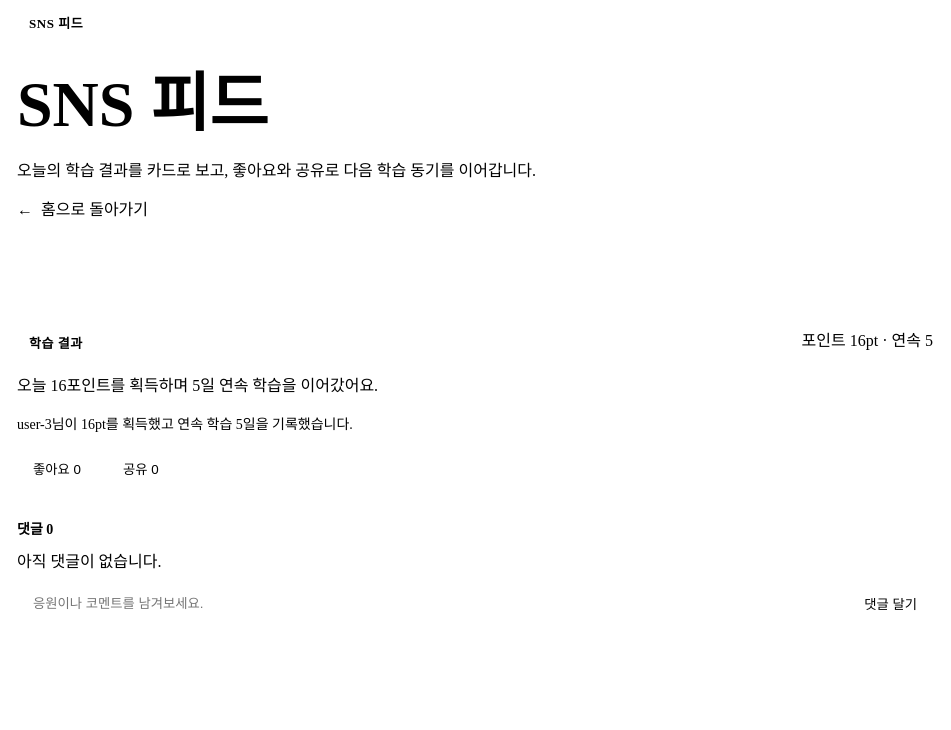
Scenario: feed ui › adds a comment to a feed card
Type "정말 대단해요." into the field named "댓글 입력 post-comment" at (428, 604), box top-left (17, 582), bottom-right (838, 625)
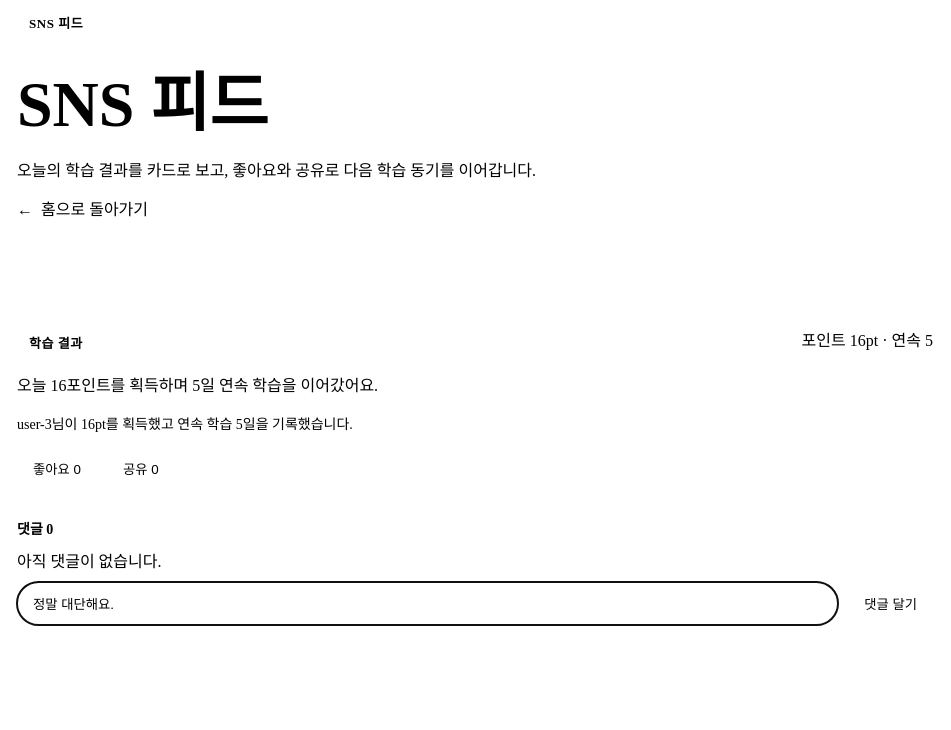
Click the button "댓글 달기" at (891, 604), box top-left (848, 582), bottom-right (933, 625)
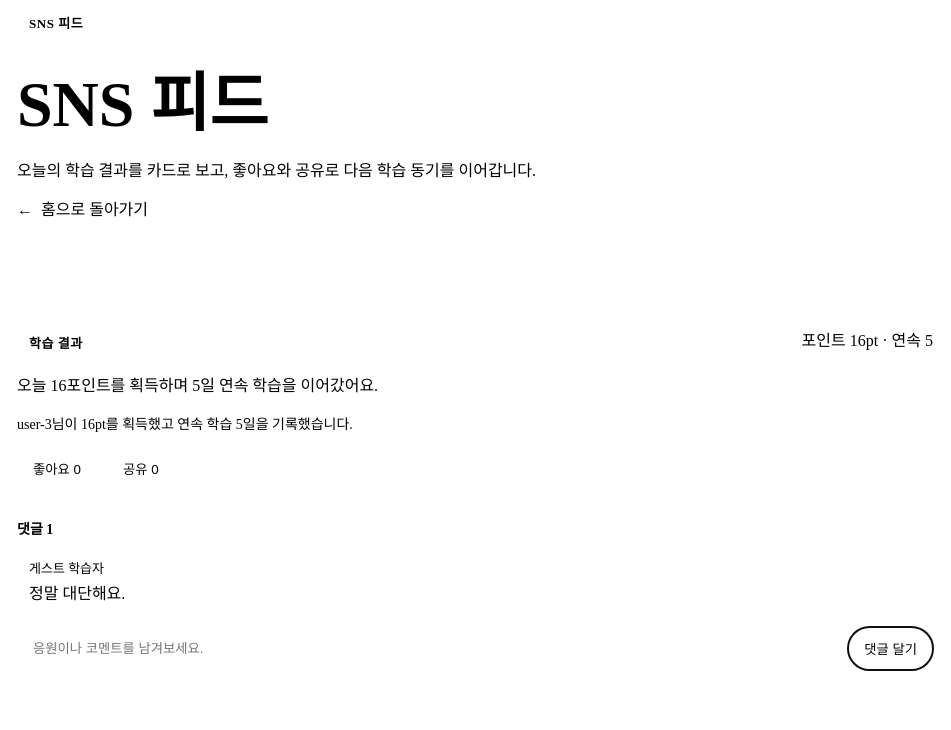
Expected: the text "정말 대단해요." is shown, top-left (29, 585), bottom-right (125, 602)
Expected: the text "댓글 1" is shown, top-left (17, 522), bottom-right (53, 537)
